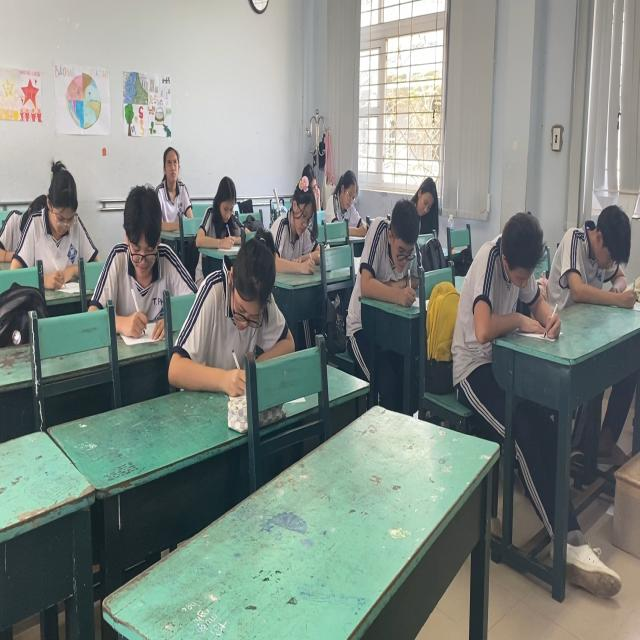not_cheating: (458, 208, 554, 344), (100, 188, 178, 340), (200, 239, 280, 367), (12, 153, 96, 274), (563, 195, 639, 308), (358, 199, 430, 302), (276, 174, 326, 257), (150, 146, 196, 222), (204, 174, 244, 246), (324, 167, 363, 233), (406, 174, 439, 233)
